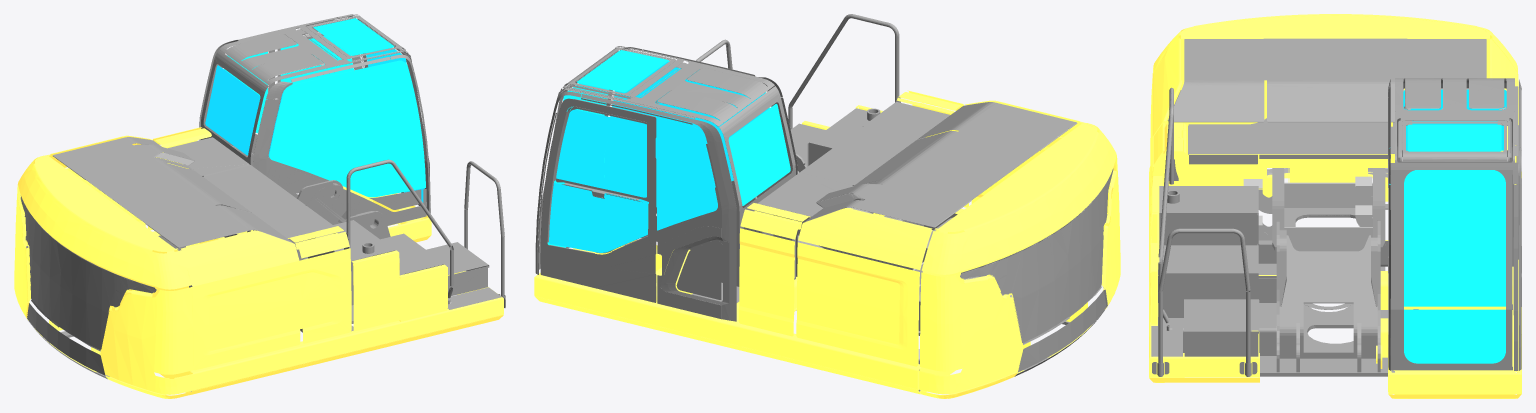
Rendered from body_link.dae.
3 renders of one model, left to right at view 1: azimuth 30°, elevation 25°; view 2: azimuth 150°, elevation 25°; view 3: azimuth 270°, elevation 25°, orthographic. The views are drawn at different scales.
Parts seen in each view (by area): view 1: yellow, grey, glass; view 2: grey, yellow, glass; view 3: grey, yellow, glass, none.
Boxes of the visible parts, bbox=[...] form: yellow: bbox=[14, 127, 503, 398]; grey: bbox=[20, 14, 505, 391]; glass: bbox=[205, 18, 425, 202]; grey: bbox=[535, 14, 1113, 391]; yellow: bbox=[534, 90, 1120, 398]; glass: bbox=[547, 50, 790, 252]; grey: bbox=[1151, 38, 1521, 376]; yellow: bbox=[1149, 14, 1521, 398]; glass: bbox=[1389, 89, 1506, 363]; none: bbox=[1243, 176, 1372, 251].
Bounding box in the file's own units: 4.05 × 2.76 × 1.95.
